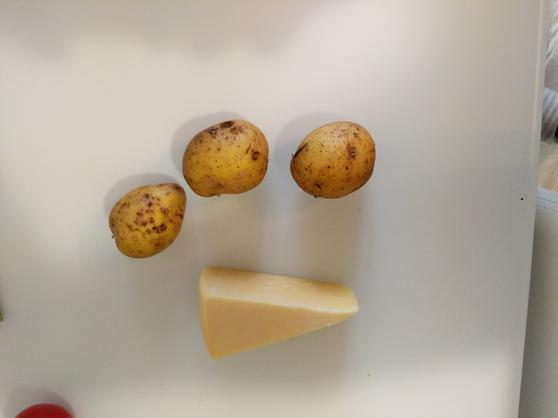cheese: (200, 268, 364, 359)
potato: (289, 122, 377, 201), (107, 180, 189, 261), (184, 118, 268, 197)
